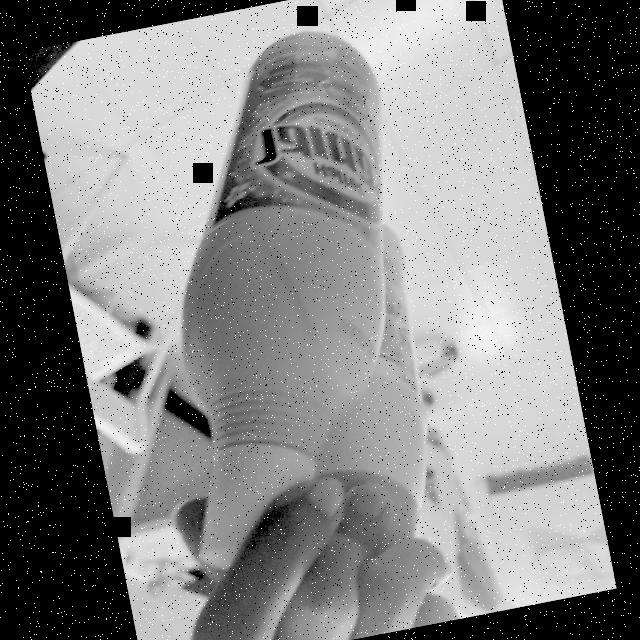chemical_plastic_bottle: (100, 17, 467, 572), (264, 208, 462, 578)
